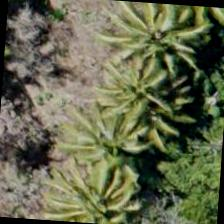Kelapa_Sawit: (88, 60, 184, 156), (108, 0, 202, 84), (35, 159, 130, 223)
